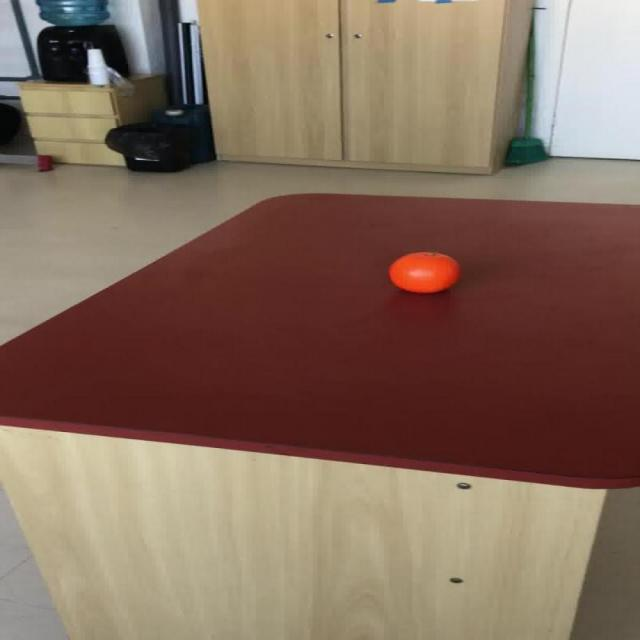Orange: (386, 250, 460, 294)
